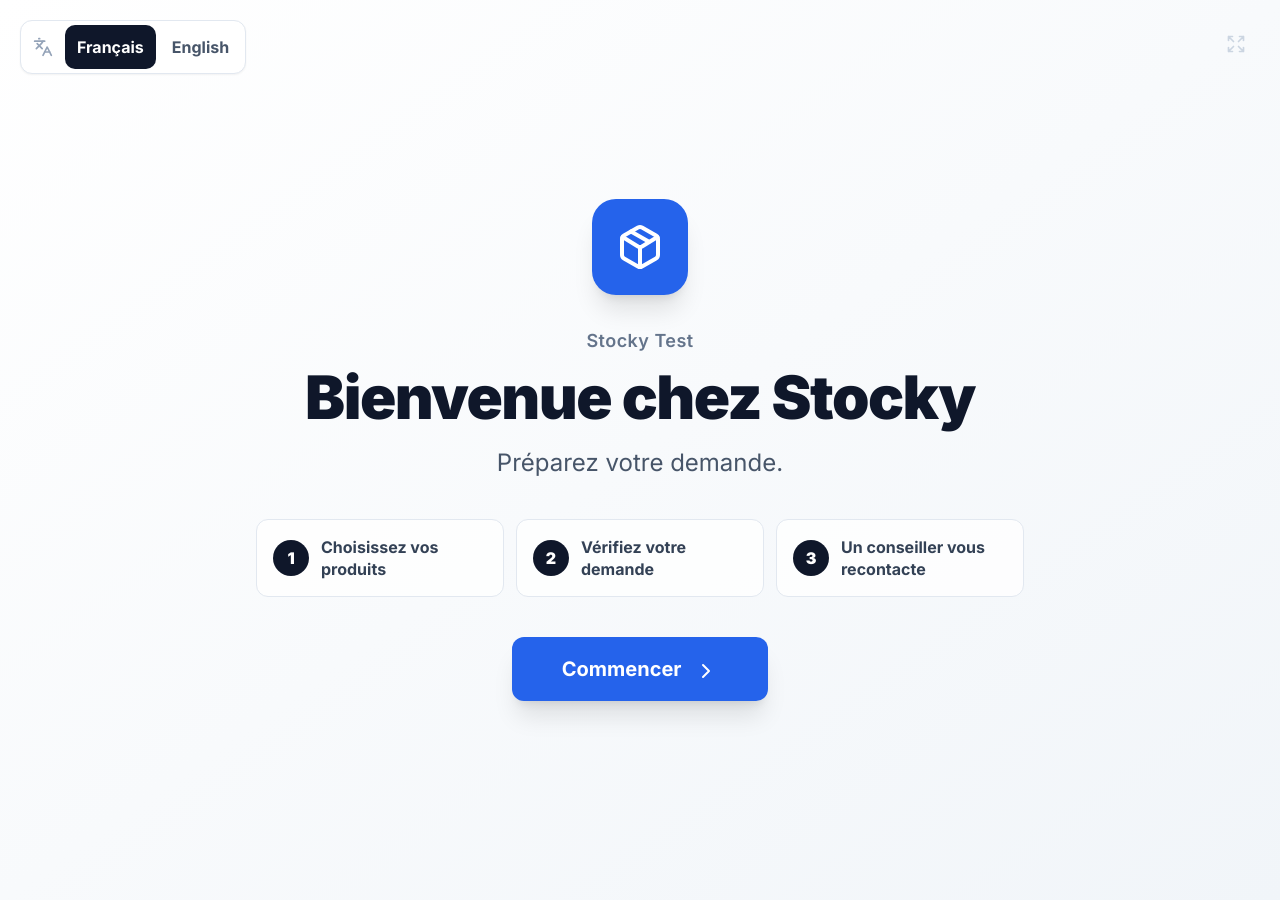
KioskPage › hides the sector filter when no sector has products
Click the button "Commencer" at point(640, 669), box [512,637,768,701]
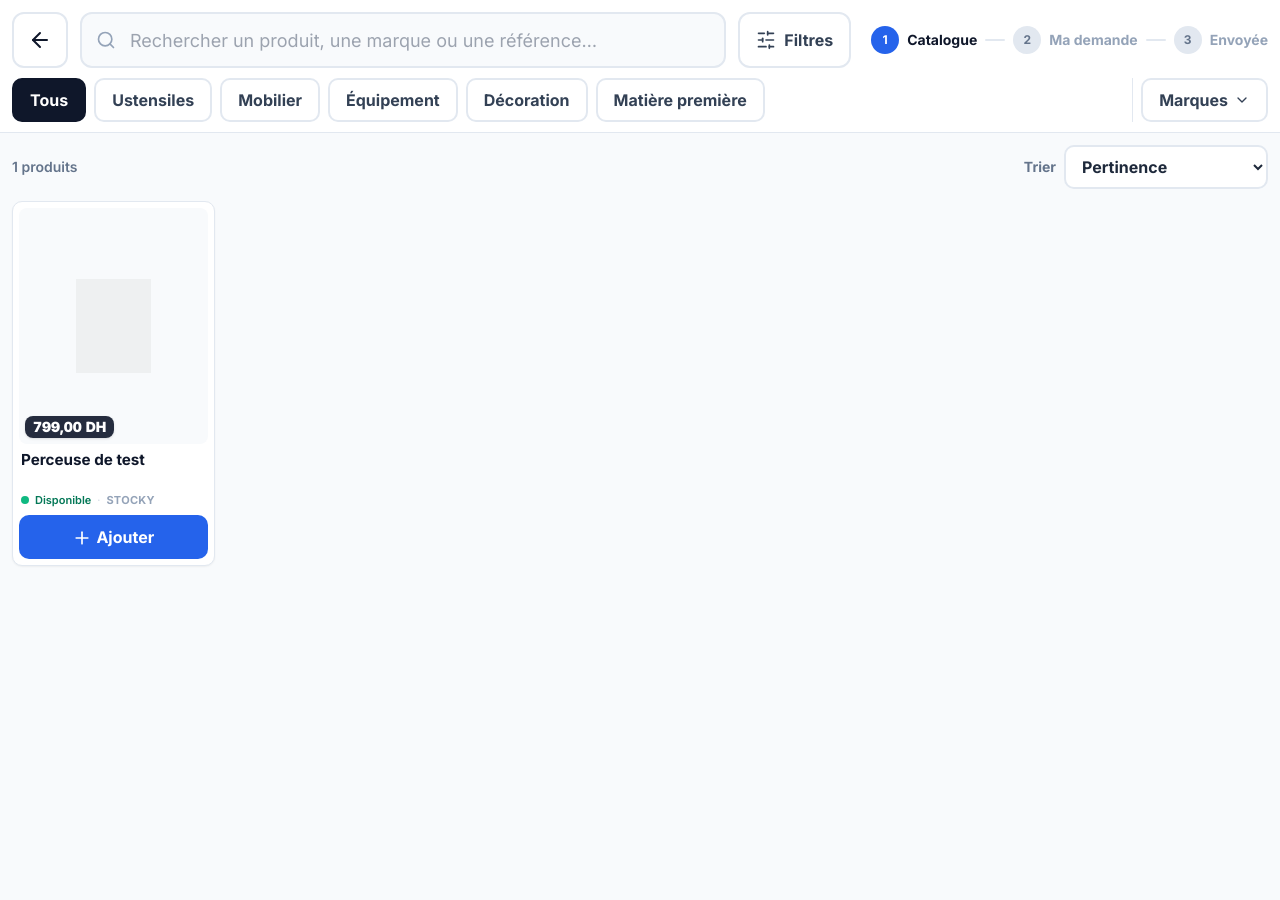
Now the heading "Perceuse de test" is shown, box [21,450,145,469]
Click the button "Filtres" at point(795, 40), box [738,12,851,68]
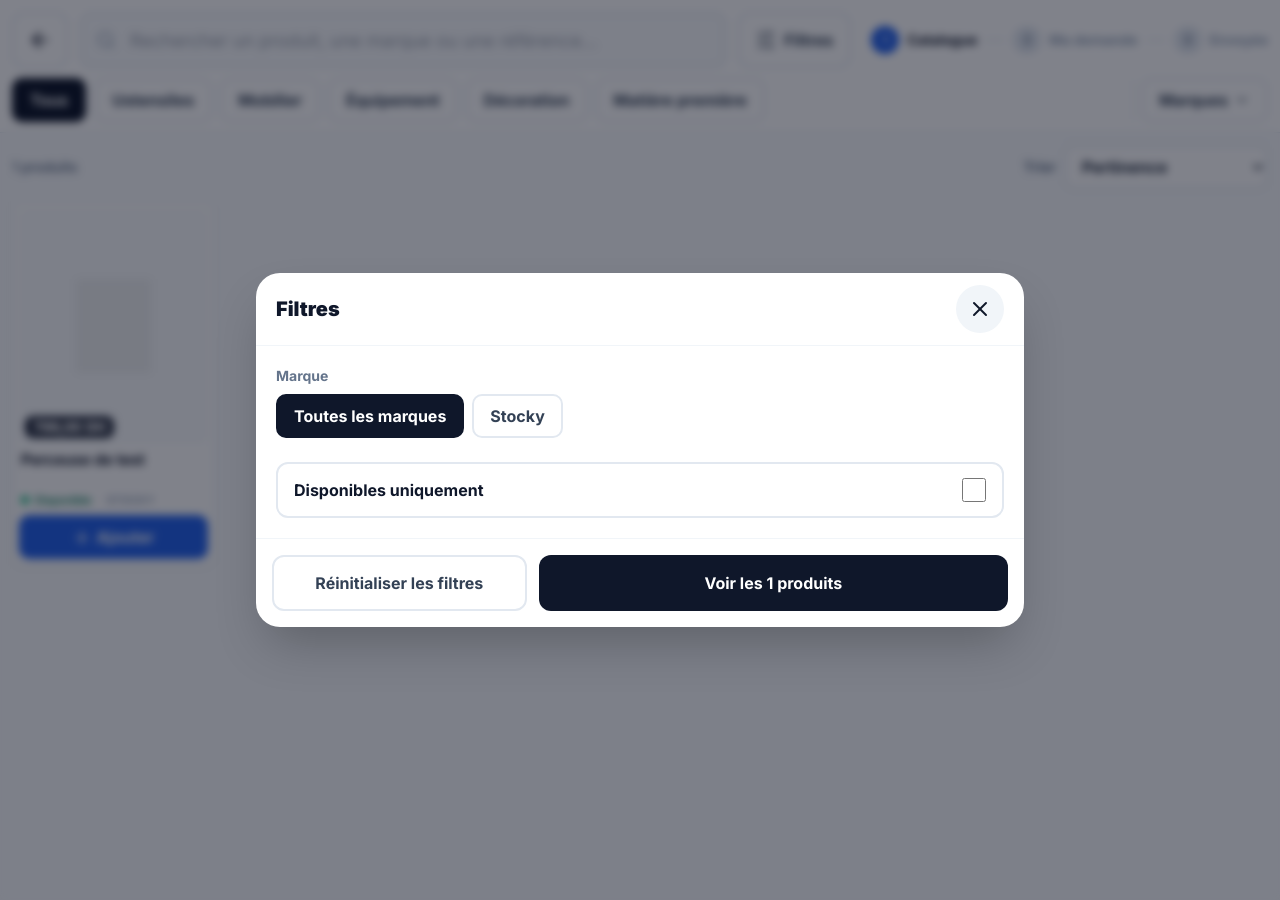
Now the element "marque" is shown, box [276,394,563,438]
